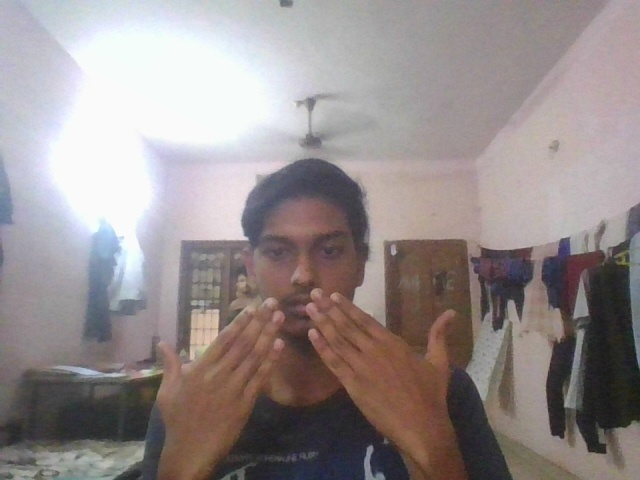thankyou: (152, 285, 463, 445)
